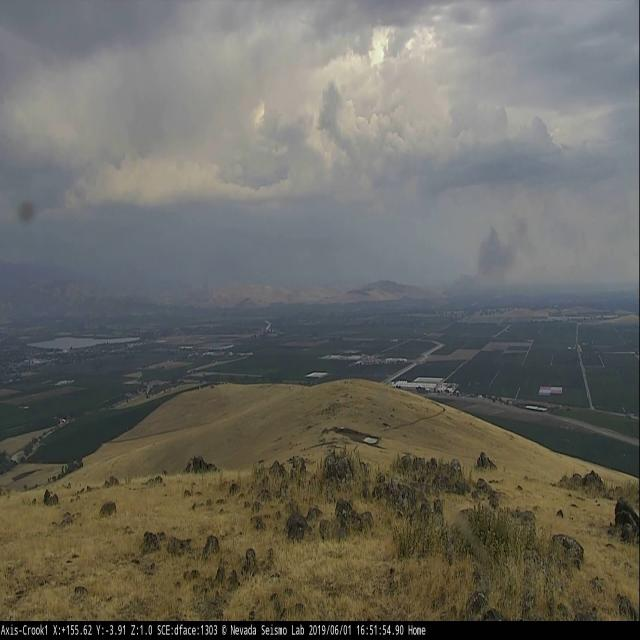smoke: (441, 202, 628, 299)
